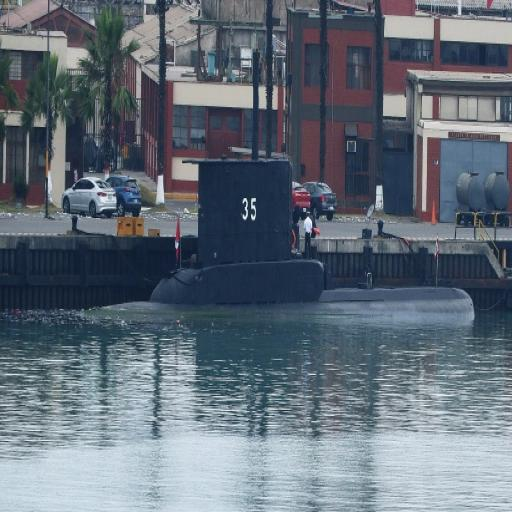submarine: (64, 161, 480, 318)
